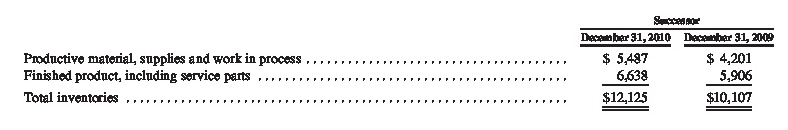table: (0, 0, 788, 130)
